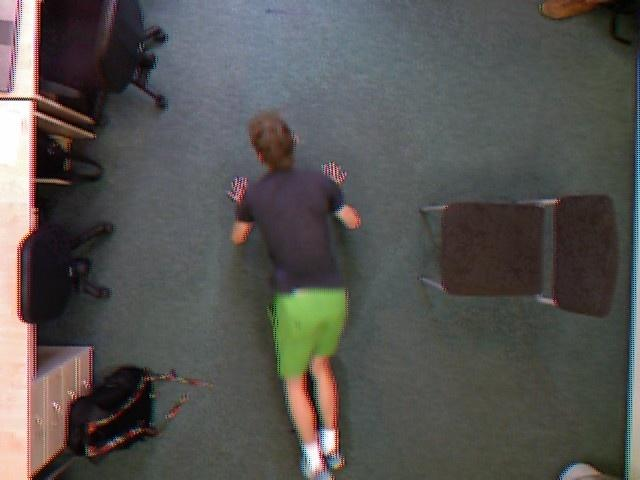fall: (212, 96, 374, 475)
